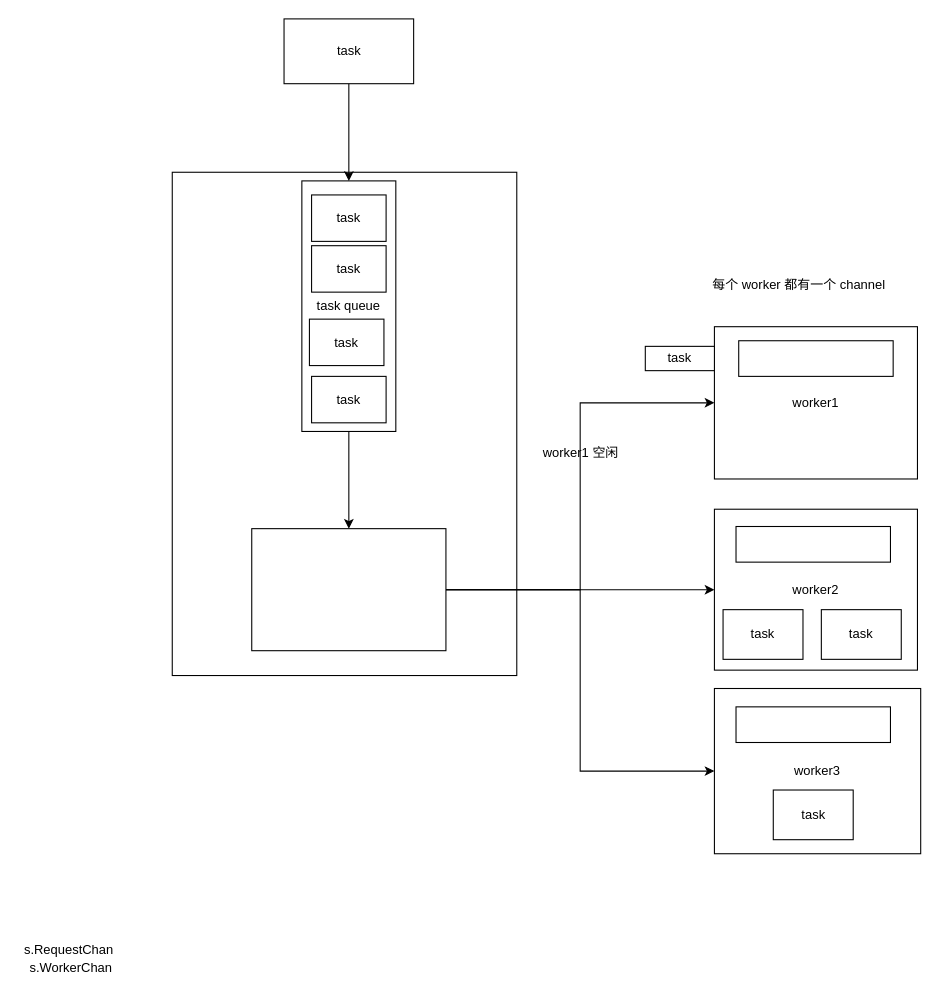
The diagram is 940 pixels wide and 997 high, and some of its shapes have lost their labels. The centre of each missing label's shape, as x and y in pixels:
schedular: pixel 348 589
worker1 chan: pixel 815 358
worker2 chan: pixel 812 543
worker3 chan: pixel 812 724
